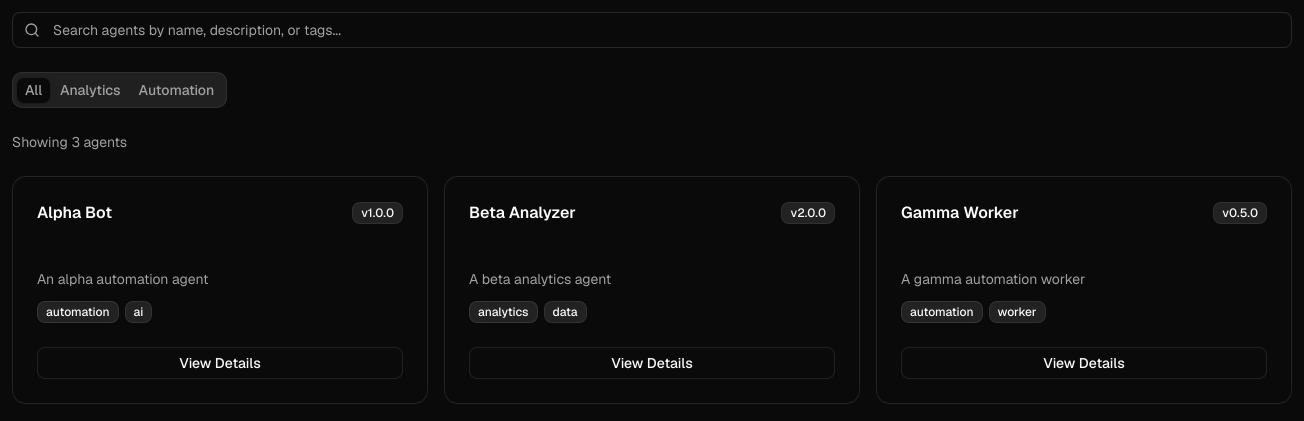
Test: RegistryContent › filters agents by name (case-insensitive)
Type "alpha" into the field with placeholder "Search agents by name, description, or tags...".
click(652, 30); type("alpha")  # box [12,12,1292,48]
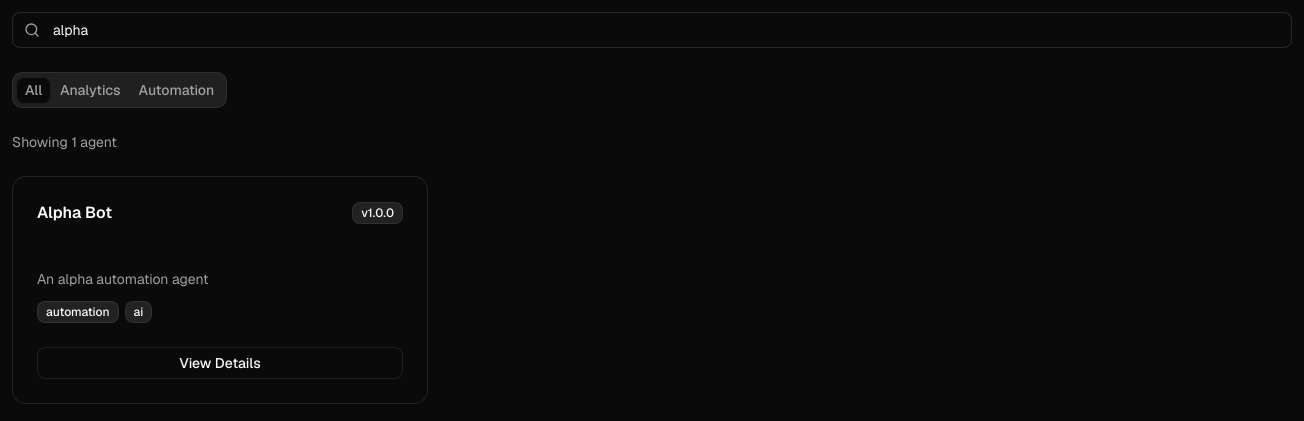
Expected: the text "Alpha Bot" is shown, [37,201,112,225]
Expected: the text "Beta Analyzer" is gone
Expected: the text "Showing 1 agent" is shown, [12,133,117,151]
